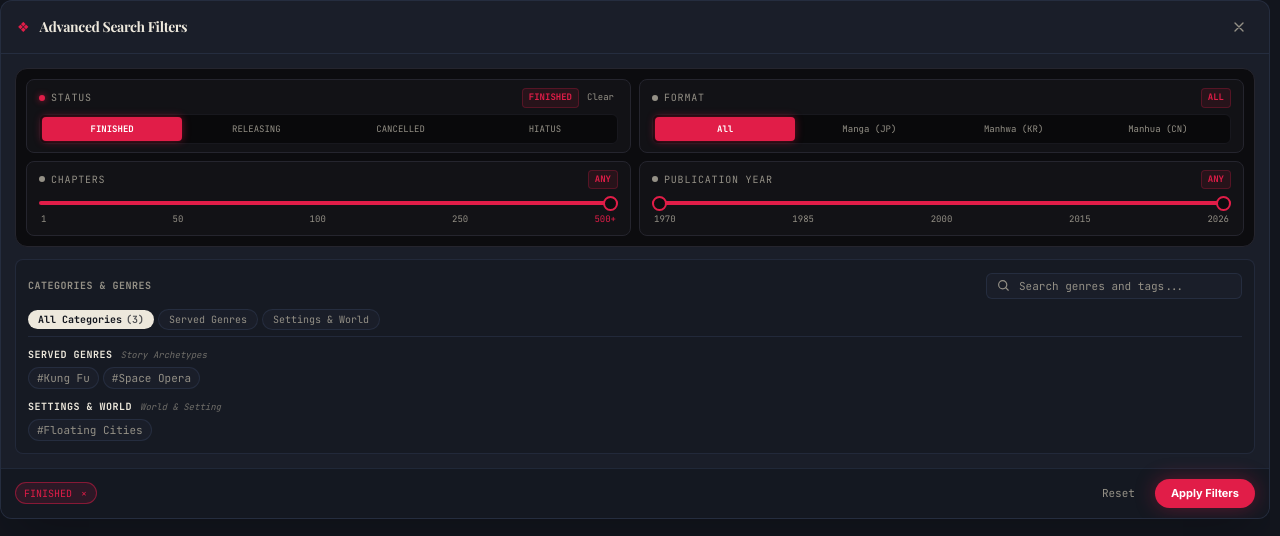
Test: FilterDrawer staged filters (Apply button) › clears the draft on Reset without committing, so Apply stays the only commit
Check: the message shows "FINISHED", box [24,487,72,500]
Click the button "Reset": {"x": 1118, "y": 493} [1090,479,1147,508]
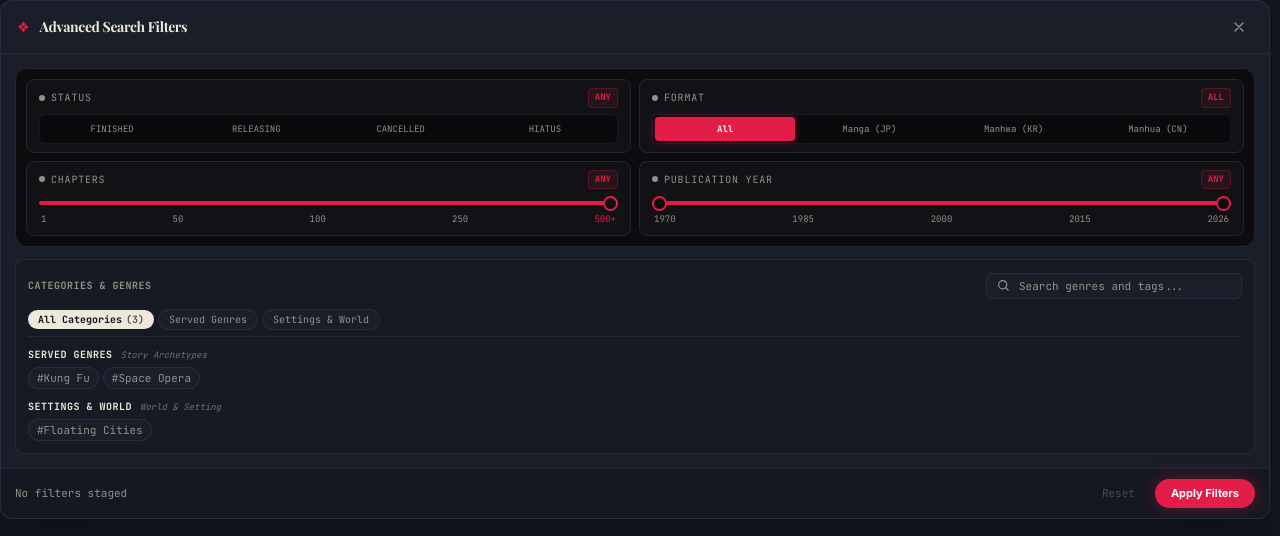
Check: the message reads "No filters staged", box [15,486,127,500]
